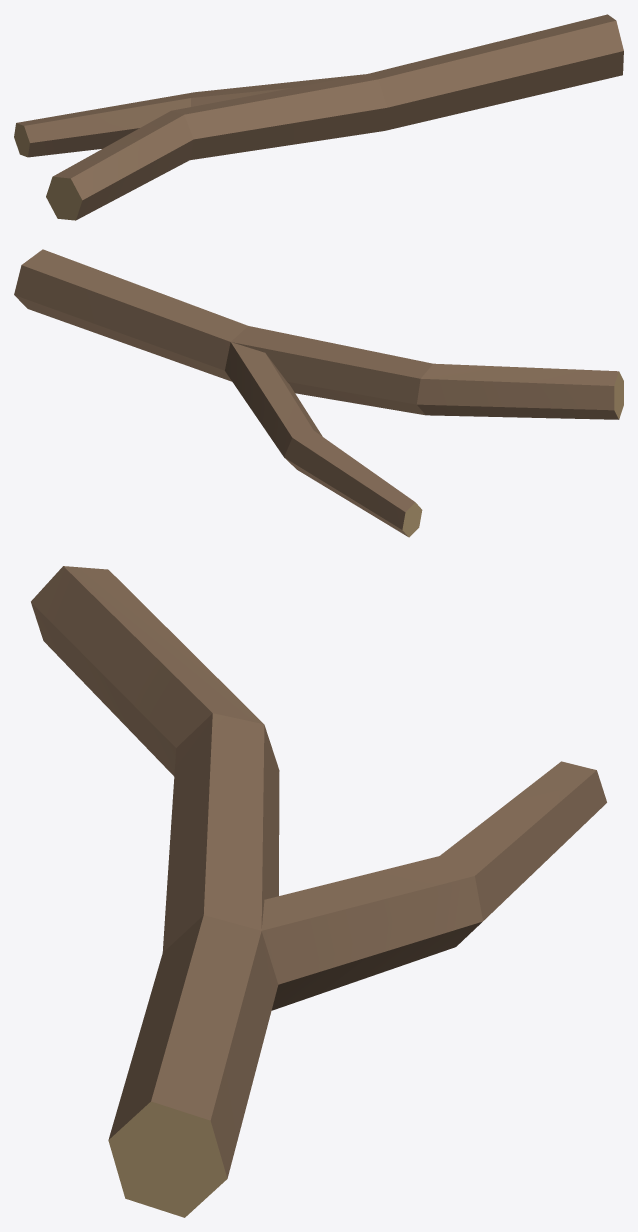
The model's file is Hilly_Prop_Branch_2.obj.
3 renders of one model, top to bottom at view 1: azimuth 30°, elevation 25°; view 2: azimuth 150°, elevation 25°; view 3: azimuth 270°, elevation 25°, orthographic. The views are drawn at different scales.
Visible parts, largest first — view 1: object1; view 2: object1; view 3: object1.
Boxes of the visible parts, x1=… form: object1: x1=14, y1=14, x2=623, y2=220; object1: x1=14, y1=249, x2=623, y2=537; object1: x1=31, y1=566, x2=606, y2=1217.
Size of the model in its own units: 1.89 by 0.2955 by 0.8225.
